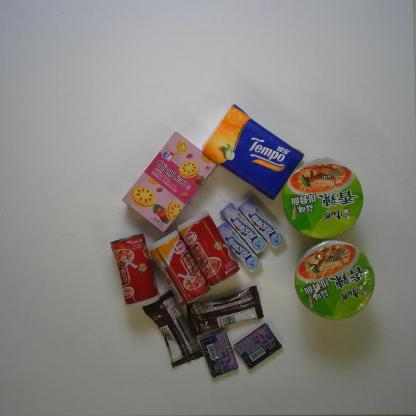Candy: (237, 196, 287, 251), (219, 202, 268, 256), (216, 219, 263, 275)
Canned Food: (147, 228, 212, 308), (176, 209, 241, 288), (108, 232, 162, 310)
Chocolate: (141, 288, 205, 370), (186, 284, 265, 337)
Dessert: (118, 130, 218, 237)
Gum: (232, 321, 284, 371), (197, 327, 239, 379)
Instant Noodles: (281, 155, 365, 241), (293, 240, 376, 322)
Tissue: (199, 102, 306, 202)
